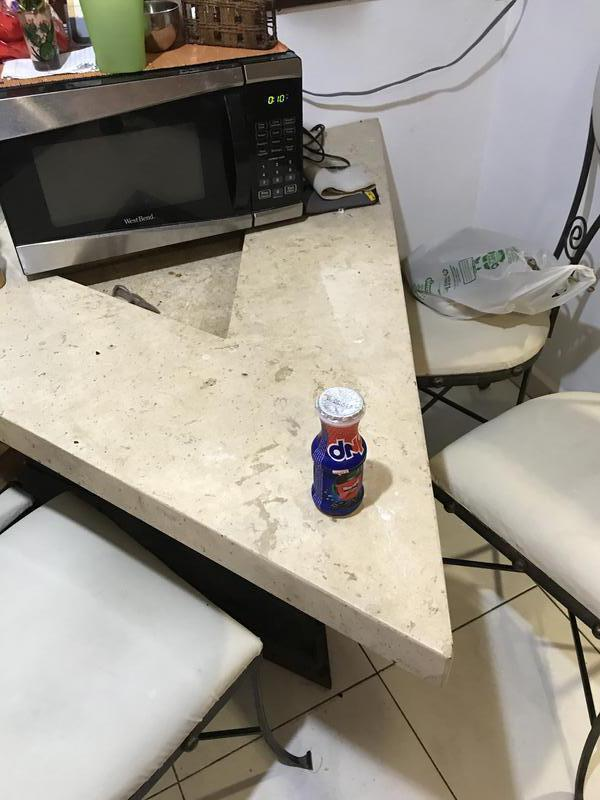danup: (310, 388, 369, 522)
